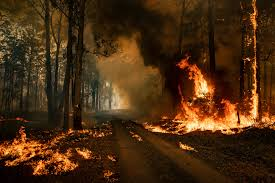fire: (181, 56, 244, 132)
smoke: (88, 2, 169, 78)
